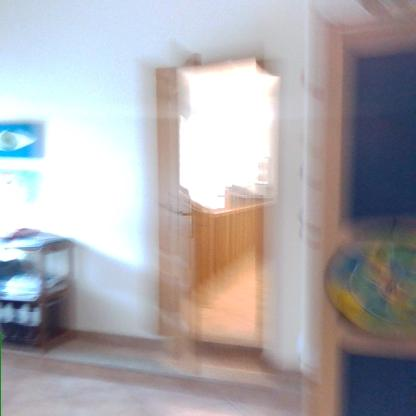closed: (137, 36, 308, 387)
